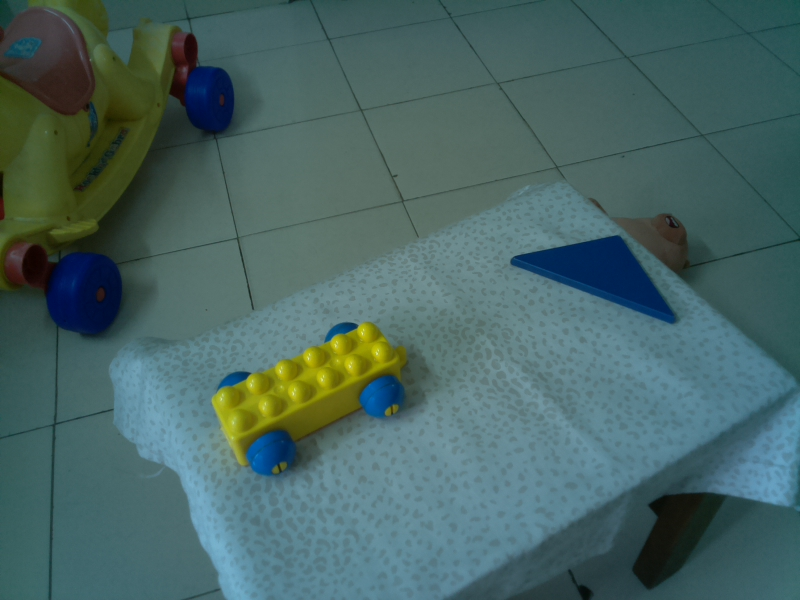Triangle: (508, 228, 683, 330)
toy_Car: (209, 317, 419, 483)
